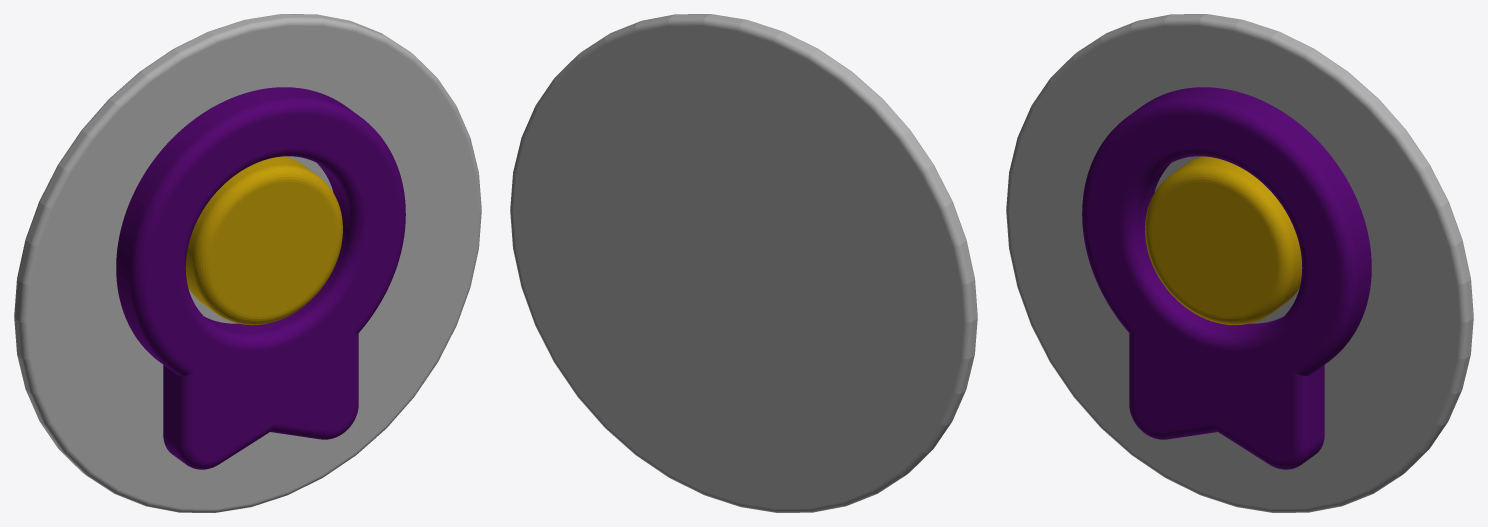
Rendered from award-1.glb.
The picture shows the model from 3 angles, left to right: view 1: azimuth 30°, elevation 25°; view 2: azimuth 150°, elevation 25°; view 3: azimuth 330°, elevation 25°; orthographic projection.
Parts seen in each view (by area): view 1: Mesh_2.002, Mesh_0.002, Mesh_1.002; view 2: Mesh_2.002; view 3: Mesh_2.002, Mesh_0.002, Mesh_1.002.
Boxes of the visible parts, <box> form: Mesh_2.002: <box>14,14,481,512</box>; Mesh_0.002: <box>116,87,405,469</box>; Mesh_1.002: <box>185,156,342,325</box>; Mesh_2.002: <box>510,14,977,512</box>; Mesh_2.002: <box>1006,14,1473,512</box>; Mesh_0.002: <box>1082,87,1371,469</box>; Mesh_1.002: <box>1145,156,1302,325</box>.
Bounding box in the file's own units: 41 × 41 × 4.74.
